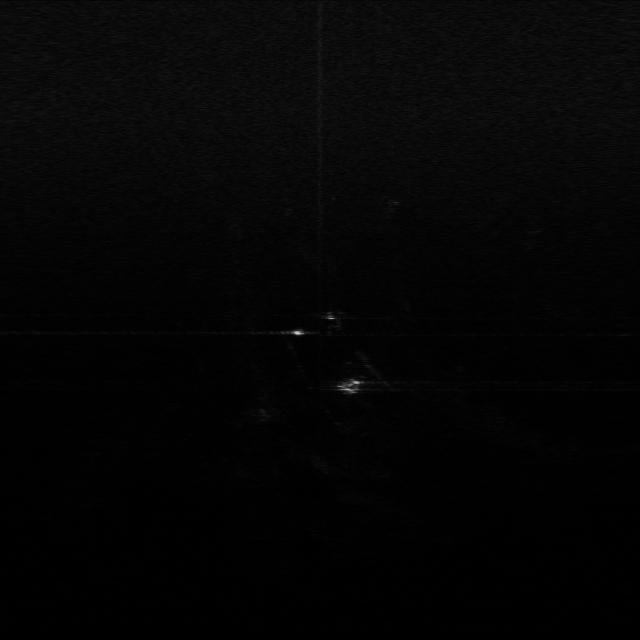rov: (333, 373, 367, 399)
